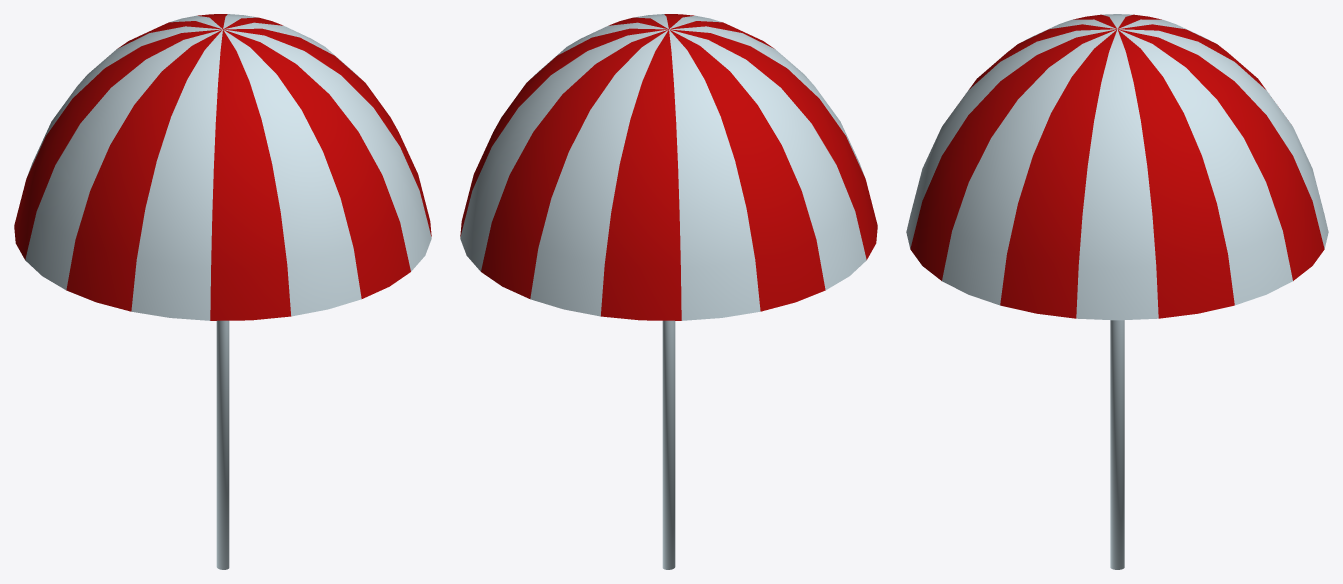
The model's file is umbrellaa.fbx.
3 renders of one model, left to right at view 1: azimuth 30°, elevation 25°; view 2: azimuth 150°, elevation 25°; view 3: azimuth 270°, elevation 25°, orthographic.
Parts seen in each view (by area): view 1: Cylinder; view 2: Cylinder; view 3: Cylinder.
Part boxes in pixels (bbox=[...]): Cylinder: bbox=[14, 14, 431, 569]; Cylinder: bbox=[460, 14, 877, 569]; Cylinder: bbox=[906, 14, 1328, 569].
Bounding box in the file's own units: 78.33 × 111 × 79.23.
